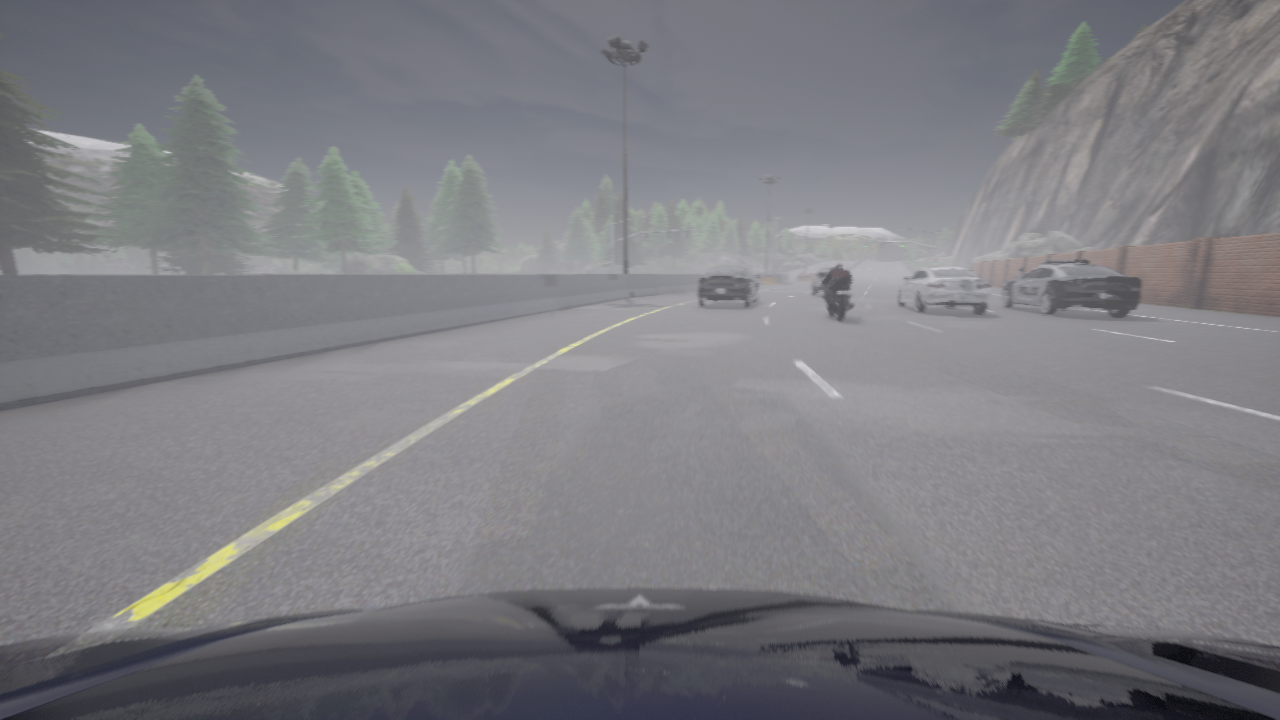cyclist: (0, 588, 1279, 719), (1002, 260, 1140, 316), (897, 266, 989, 313), (698, 265, 759, 306), (820, 274, 853, 320), (811, 268, 835, 295)
